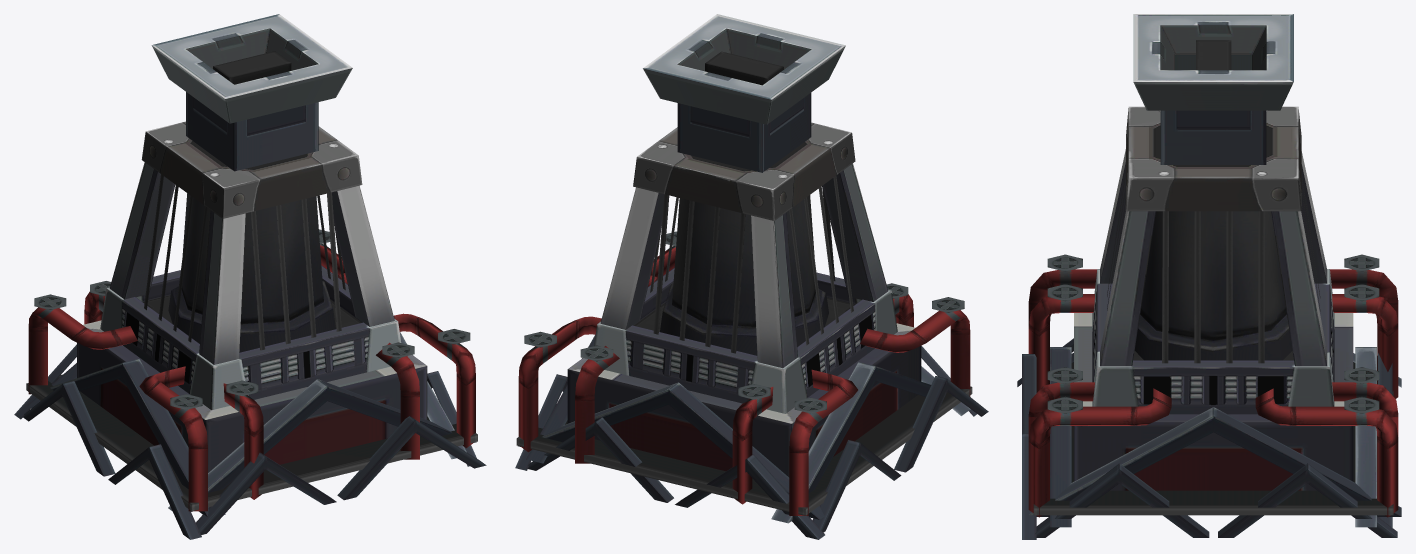
Rendered from trap_137_winfire.fbx.
3 renders of one model, left to right at view 1: azimuth 30°, elevation 25°; view 2: azimuth 150°, elevation 25°; view 3: azimuth 270°, elevation 25°, orthographic. The views are drawn at different scales.
Visible parts, largest first — view 1: trap_137_winfire; view 2: trap_137_winfire; view 3: trap_137_winfire.
Part boxes in pixels (x1,y1,x2,y2): trap_137_winfire: (14,14,486,539); trap_137_winfire: (515,14,988,539); trap_137_winfire: (1017,14,1401,539).
Size of the model in its own units: 1.06 by 1.26 by 1.06.
Materials: 1 (1 with a texture image).
